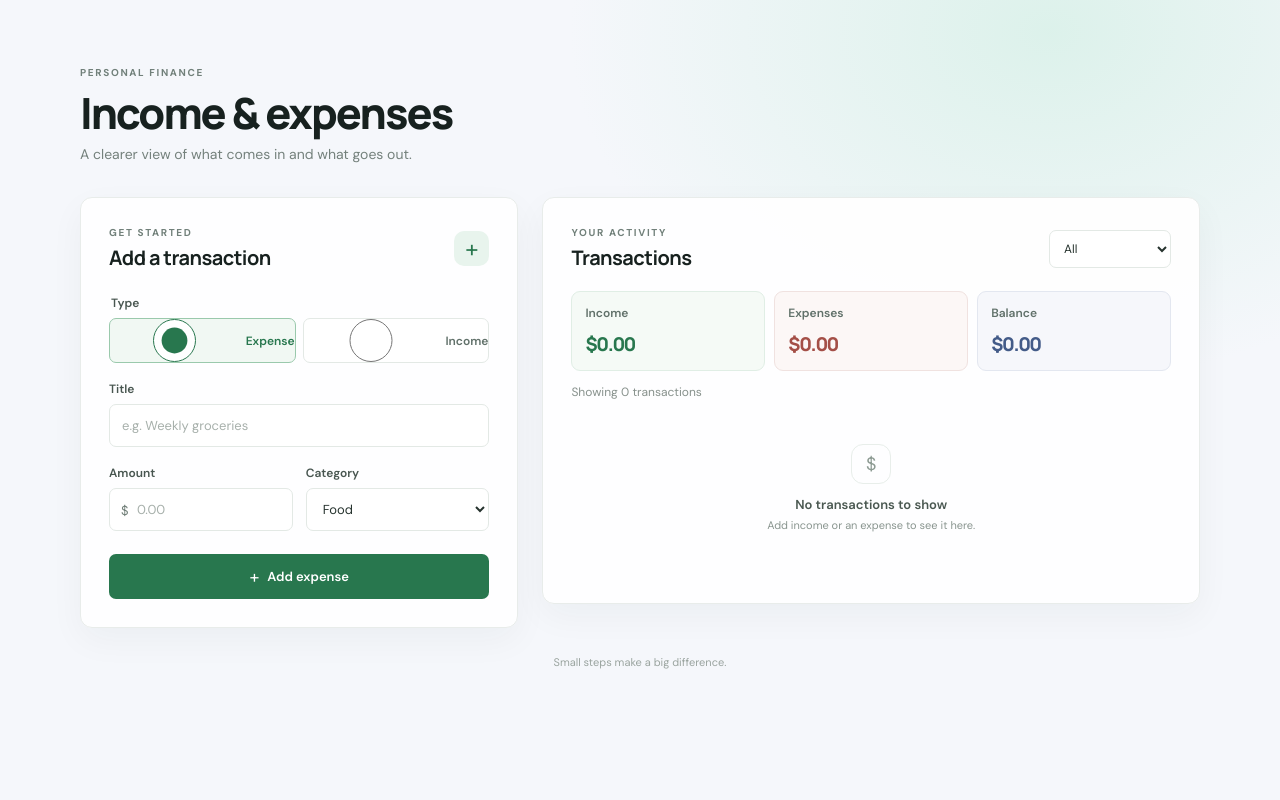
Test case: expense tracker › filters expenses and updates visible count and total
This screenshot has width=1280, height=800.
Type "Lunch" into the field labelled "Title". click: (299, 426)
box: [109,404,489,447]
Type "250" into the number field labelled "Amount". click: (201, 510)
box: [109,488,293,531]
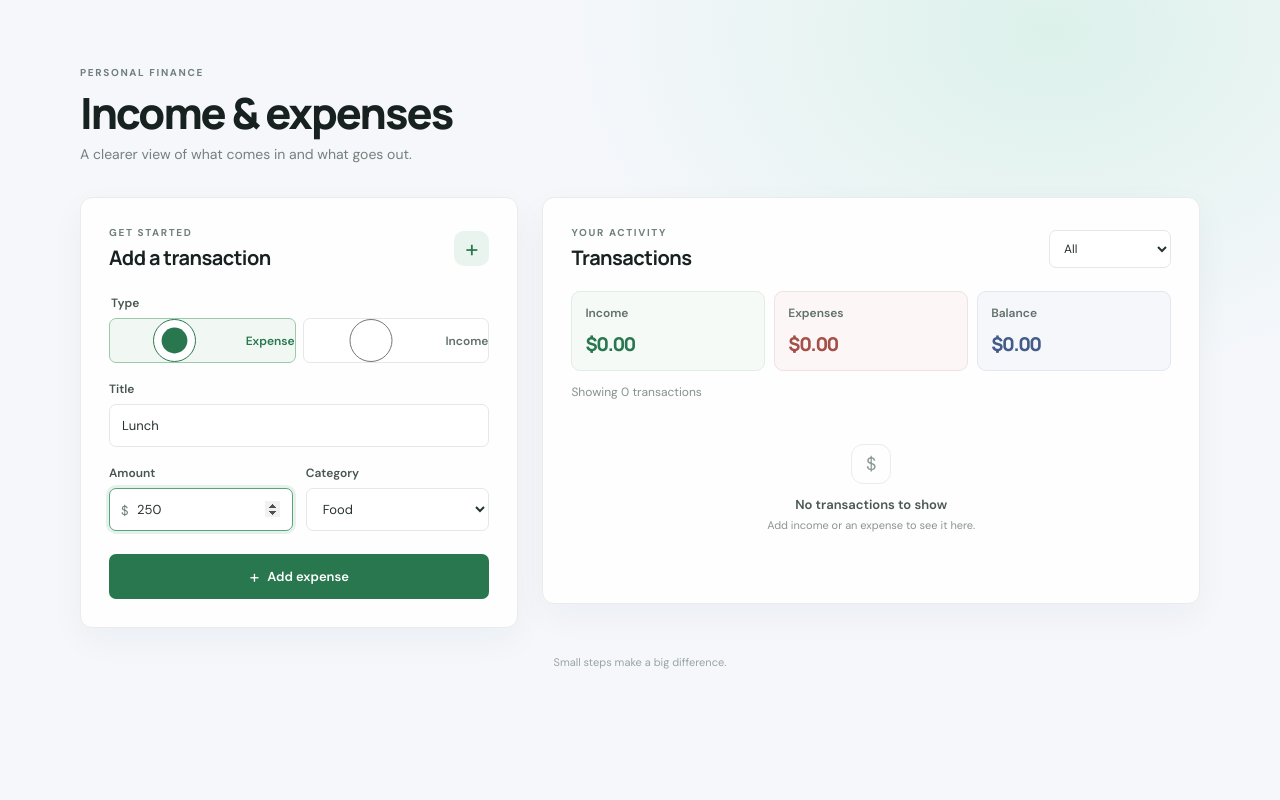
Click the button "+ Add expense". click: (299, 577)
box: [109,554,489,599]
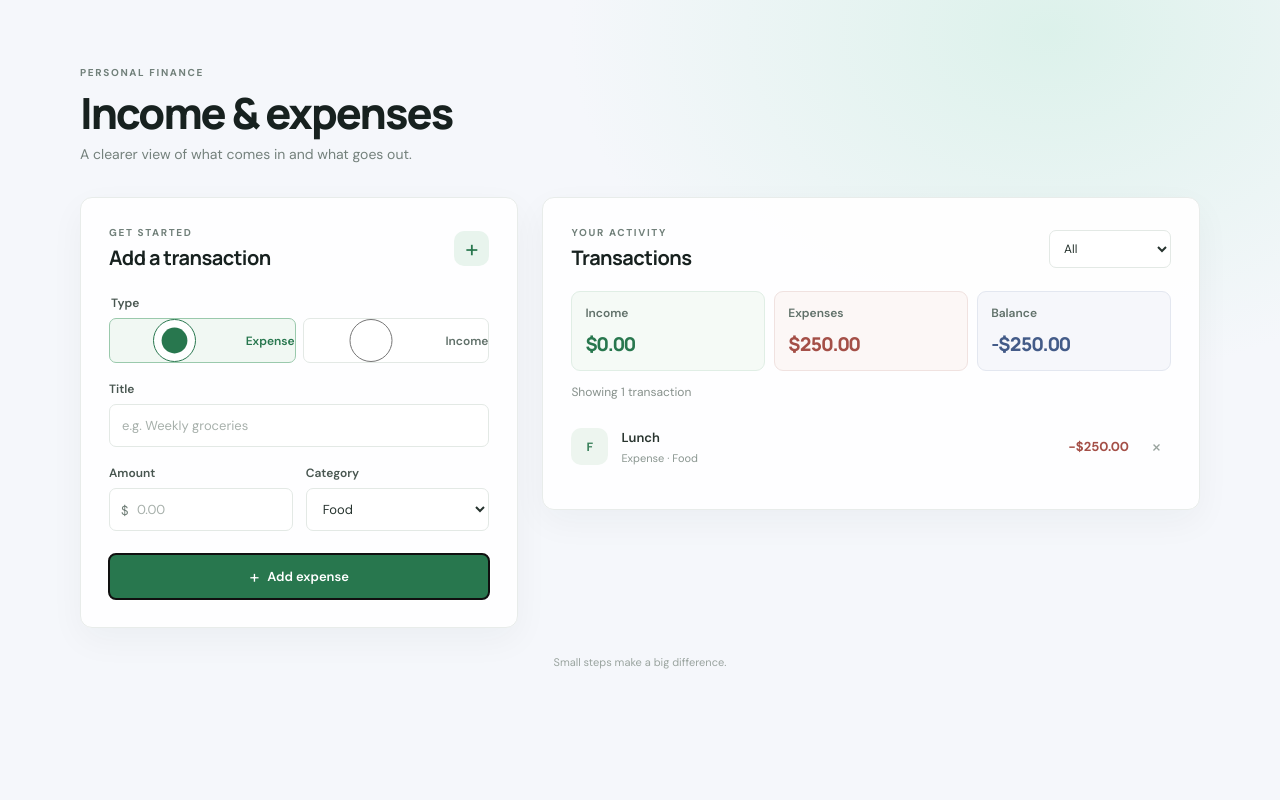
Type "Cab" into the field labelled "Title". click: (299, 426)
box: [109,404,489,447]
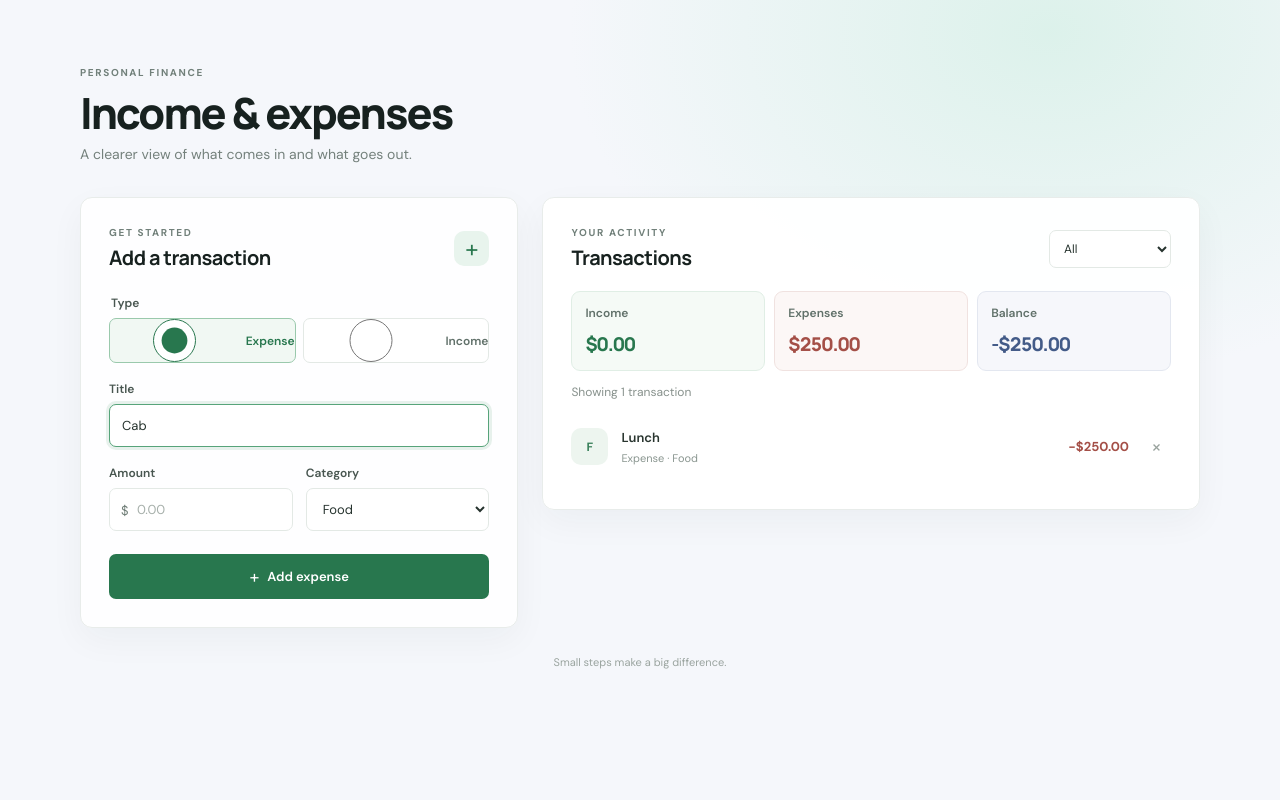
Type "400" into the number field labelled "Amount". click: (201, 510)
box: [109,488,293,531]
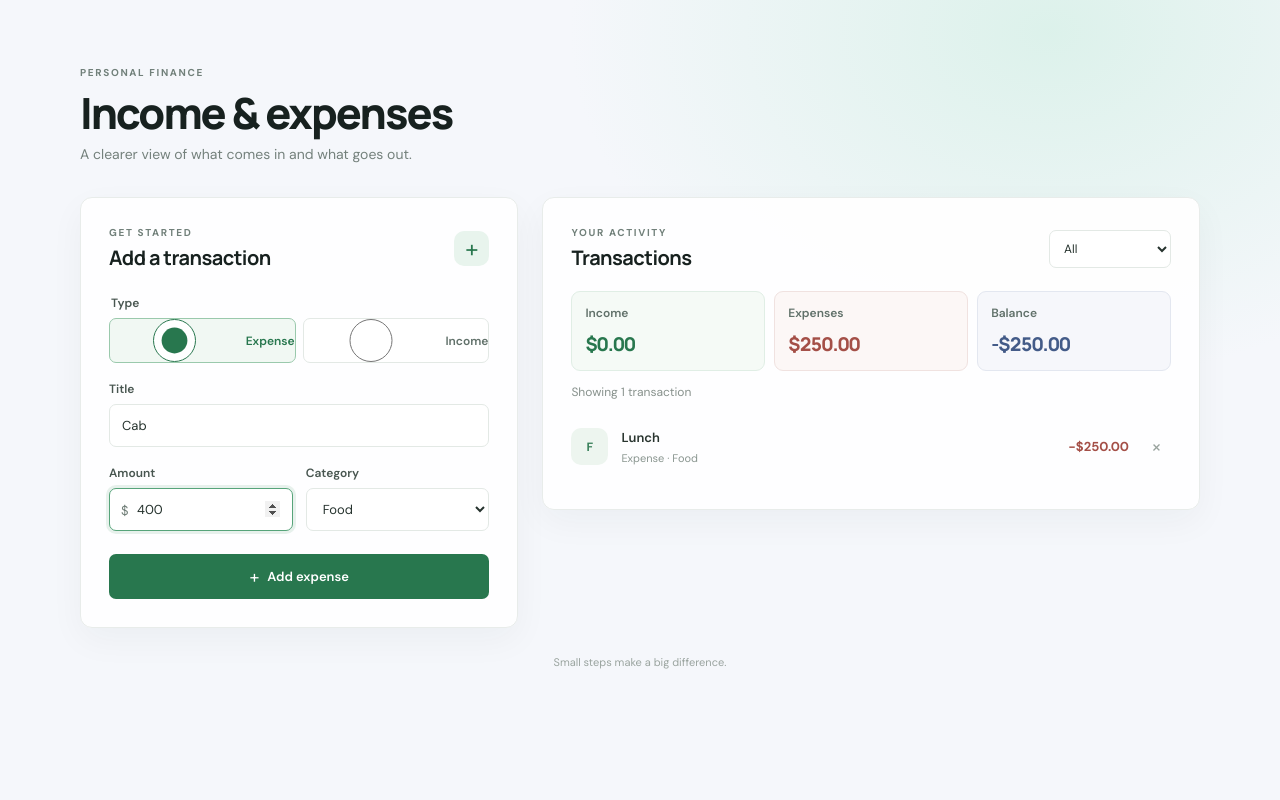
Select "Travel" in the dropdown labelled "Category". click: (398, 510)
box: [306,488,489,531]
Click the button "+ Add expense". click: (299, 577)
box: [109,554,489,599]
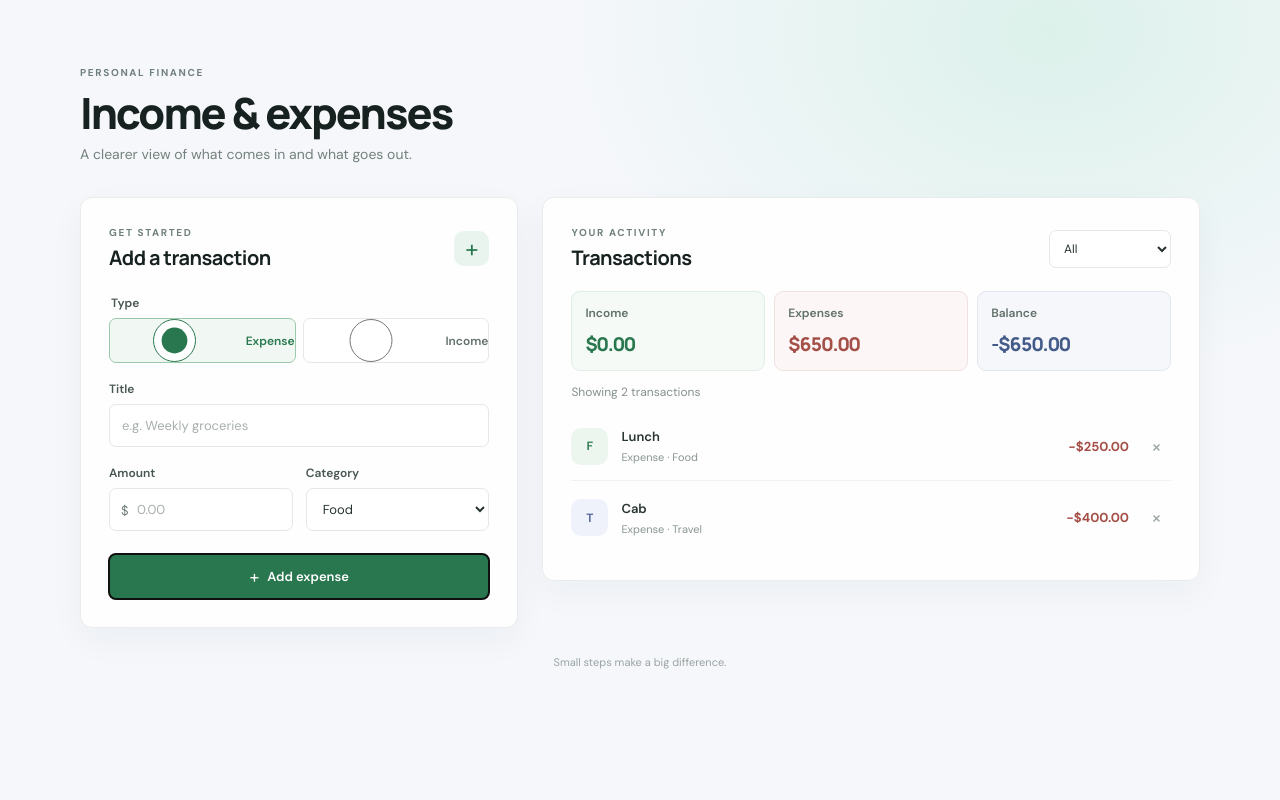
Select "Food" in the dropdown named "Filter expenses by category". click: (1110, 249)
box: [1049,230,1171,268]
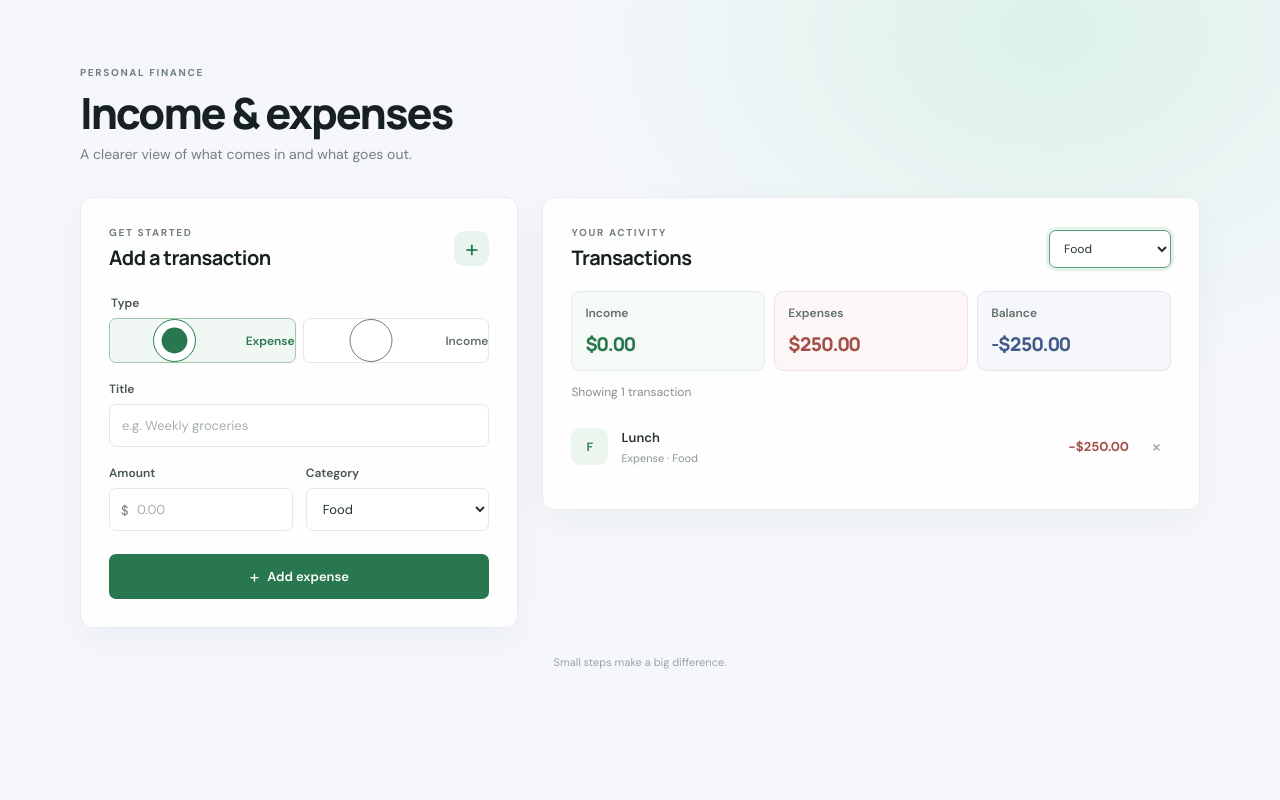
Now the text "Lunch" is shown, box [621,429,660,446]
Now the text "Cab" is gone
Now the text "Showing 1 transaction" is shown, box [571,384,691,400]
